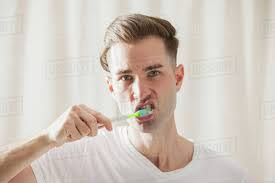white_male: (114, 35, 175, 136)
